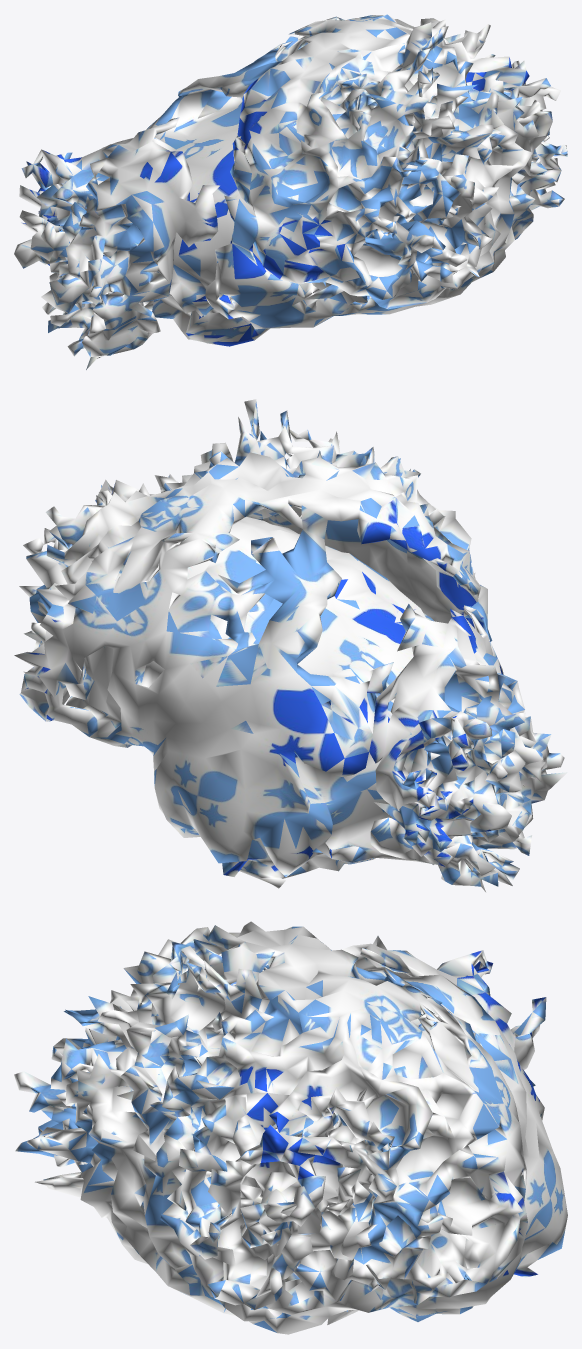
The model's file is cassiopeia-a-supernova-c-2025.glb.
The picture shows the model from 3 angles, top to bottom: view 1: azimuth 30°, elevation 25°; view 2: azimuth 150°, elevation 25°; view 3: azimuth 270°, elevation 25°; orthographic projection. The views are drawn at different scales.
Parts seen in each view (by area): view 1: A; view 2: A; view 3: A.
Part boxes in pixels (box(x1,y1,x2,y2)): A: box(14, 14, 567, 369); A: box(14, 399, 567, 891); A: box(14, 921, 567, 1334).
Size of the model in its own units: 2 by 1.31 by 1.59.
Materials: 1 (1 with a texture image).
